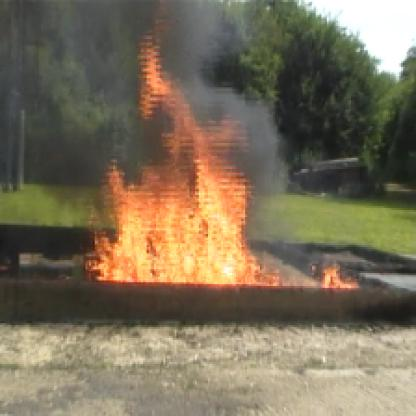Fire: (82, 24, 288, 286), (312, 262, 368, 291)
